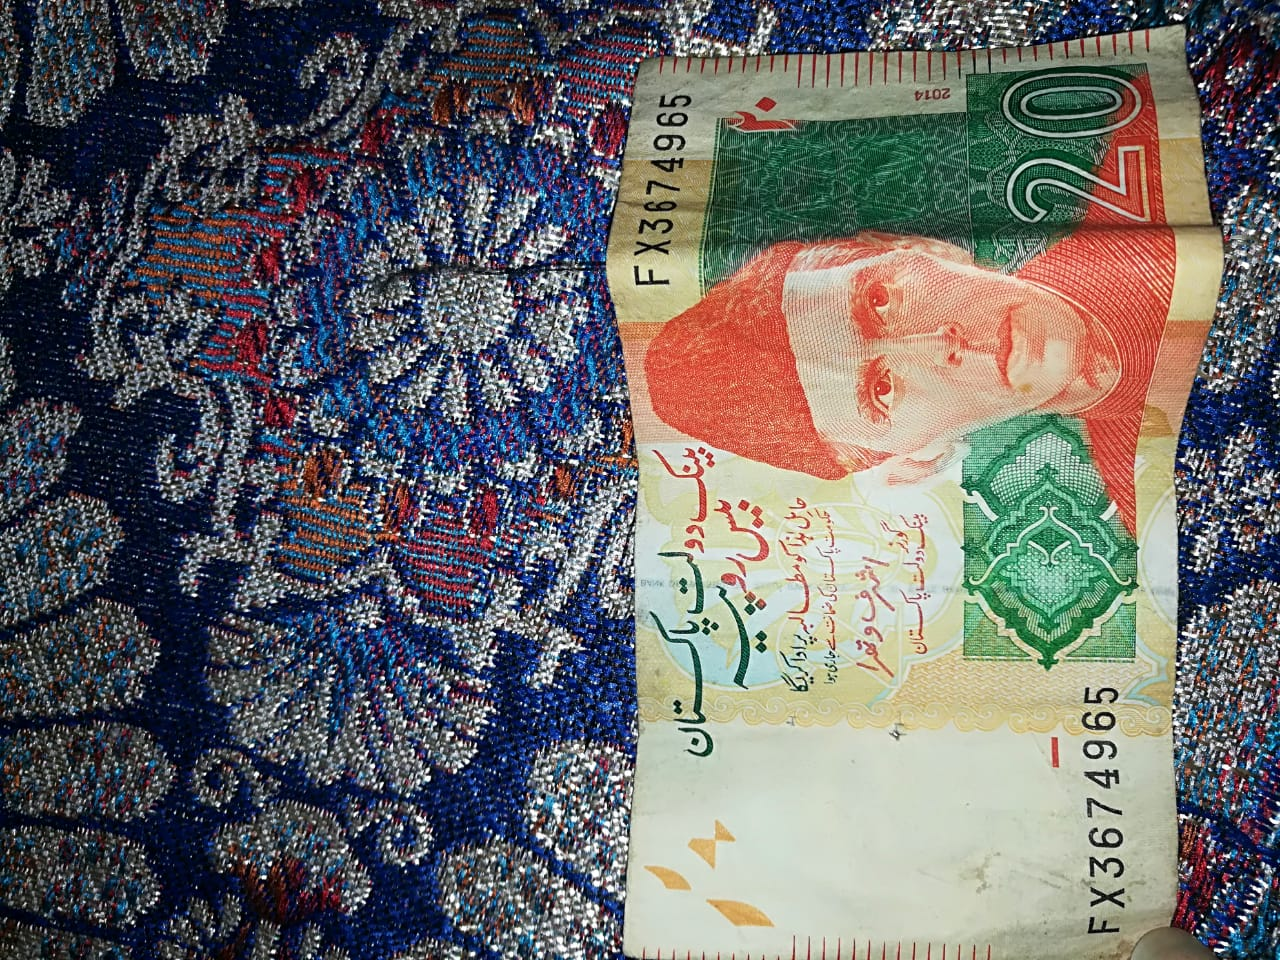20 rupee: (589, 27, 1220, 960)
